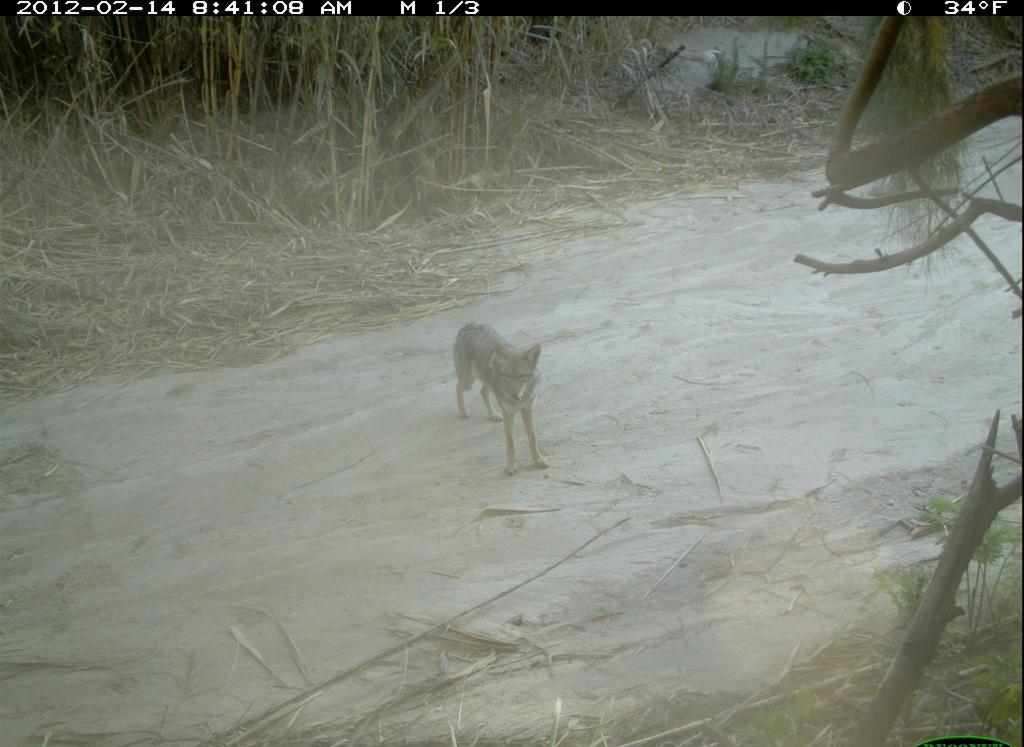coyote: (449, 305, 562, 488)
